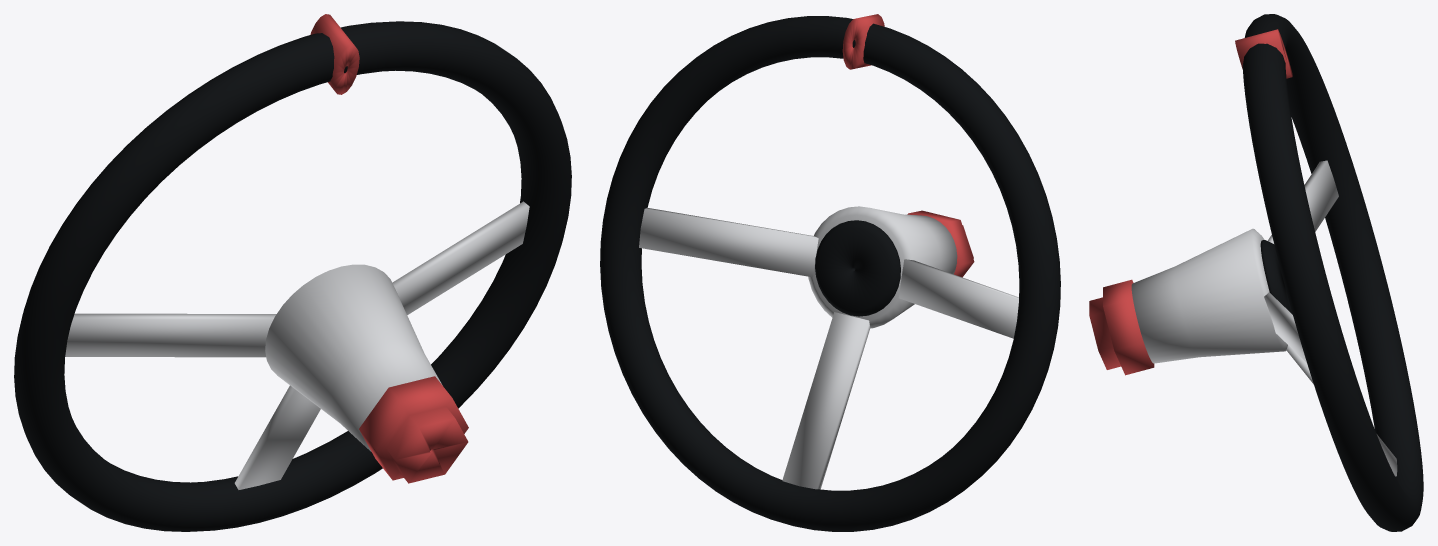
File: SW04_quick_release_wheel.glb
The picture shows the model from 3 angles, left to right: view 1: azimuth 30°, elevation 25°; view 2: azimuth 150°, elevation 25°; view 3: azimuth 270°, elevation 25°; orthographic projection. The views are drawn at different scales.
Parts seen in each view (by area): view 1: MOD_ND_SW04_rim, MOD_ND_SW04_boss, MOD_ND_SW04_spoke1, MOD_ND_SW04_qr, MOD_ND_SW04_spoke0, MOD_ND_SW04_spoke2, MOD_ND_SW04_marker; view 2: MOD_ND_SW04_rim, MOD_ND_SW04_spoke0, MOD_ND_SW04_spoke2, MOD_ND_SW04_horn, MOD_ND_SW04_boss, MOD_ND_SW04_spoke1, MOD_ND_SW04_marker, MOD_ND_SW04_qr; view 3: MOD_ND_SW04_rim, MOD_ND_SW04_boss, MOD_ND_SW04_qr, MOD_ND_SW04_spoke1, MOD_ND_SW04_spoke0, MOD_ND_SW04_horn, MOD_ND_SW04_marker, MOD_ND_SW04_spoke2.
Part boxes in pixels (x1,y1,x2,y2): MOD_ND_SW04_rim: (14,21,571,531); MOD_ND_SW04_boss: (265,264,442,451); MOD_ND_SW04_spoke1: (65,313,276,357); MOD_ND_SW04_qr: (359,376,468,483); MOD_ND_SW04_spoke0: (392,201,529,314); MOD_ND_SW04_spoke2: (234,385,320,489); MOD_ND_SW04_marker: (310,14,359,94); MOD_ND_SW04_rim: (600,16,1060,531); MOD_ND_SW04_spoke0: (639,207,818,277); MOD_ND_SW04_spoke2: (782,312,870,489); MOD_ND_SW04_horn: (815,220,900,316); MOD_ND_SW04_boss: (808,206,957,328); MOD_ND_SW04_spoke1: (898,259,1018,338); MOD_ND_SW04_marker: (842,14,884,69); MOD_ND_SW04_qr: (907,210,974,277); MOD_ND_SW04_rim: (1242,14,1423,531); MOD_ND_SW04_boss: (1131,228,1287,363); MOD_ND_SW04_qr: (1089,279,1154,375); MOD_ND_SW04_spoke1: (1267,160,1338,243); MOD_ND_SW04_spoke0: (1264,292,1306,362); MOD_ND_SW04_horn: (1260,240,1292,314); MOD_ND_SW04_marker: (1235,29,1292,78); MOD_ND_SW04_spoke2: (1286,345,1397,476).
Size of the model in its own units: 0.387 by 0.3805 by 0.2417.
